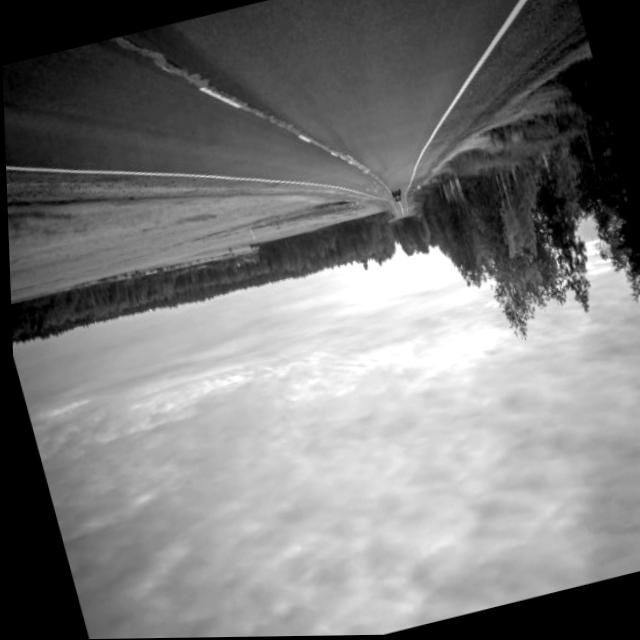cleat: (2, 0, 640, 639)
